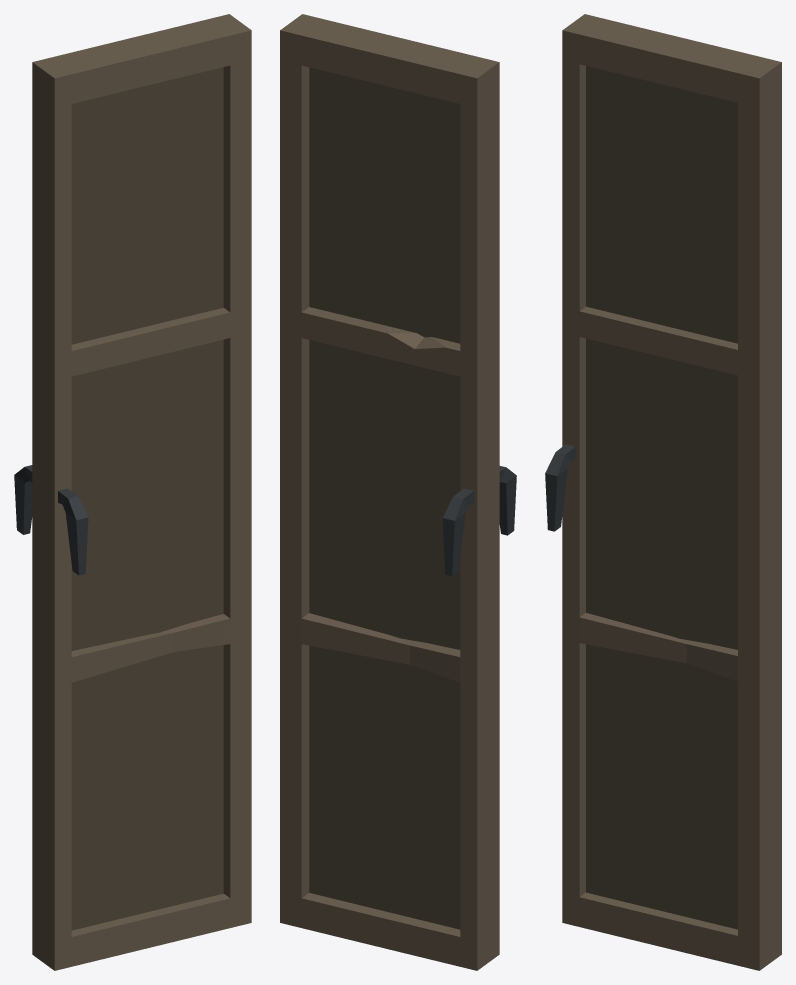
Rendered from SM_Bld_Shop_Door_02_R.fbx.
3 renders of one model, left to right at view 1: azimuth 30°, elevation 25°; view 2: azimuth 150°, elevation 25°; view 3: azimuth 330°, elevation 25°, orthographic.
Visible parts, largest first — view 1: SM_Bld_Shop_Door_02_R; view 2: SM_Bld_Shop_Door_02_R; view 3: SM_Bld_Shop_Door_02_R.
Boxes of the visible parts, x1,y1,x2,y2 form: SM_Bld_Shop_Door_02_R: (14,14,251,970); SM_Bld_Shop_Door_02_R: (280,14,516,970); SM_Bld_Shop_Door_02_R: (545,14,781,970).
Bounding box in the file's own units: 51.41 × 222 × 28.05.
